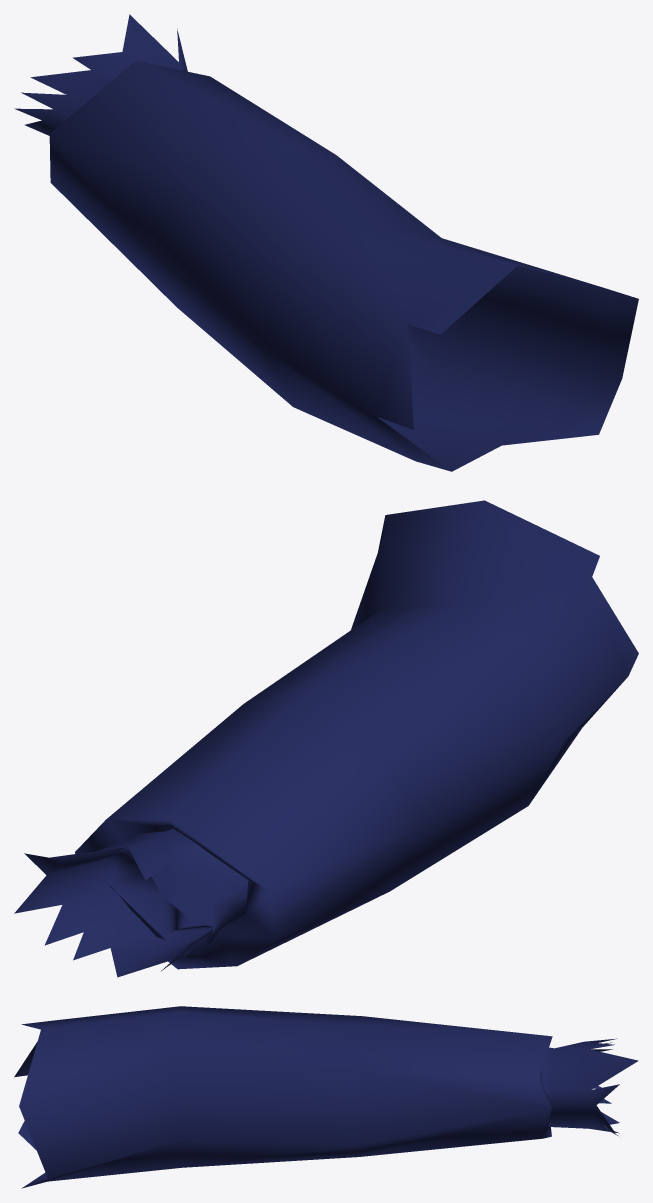
Rendered from shank_r.obj.
3 views of the same model, one above another, from view 1: azimuth 30°, elevation 25°; view 2: azimuth 150°, elevation 25°; view 3: azimuth 270°, elevation 25° (orthographic). The views are drawn at different scales.
Bounding box in the file's own units: 0.1694 × 0.1241 × 0.4441.
